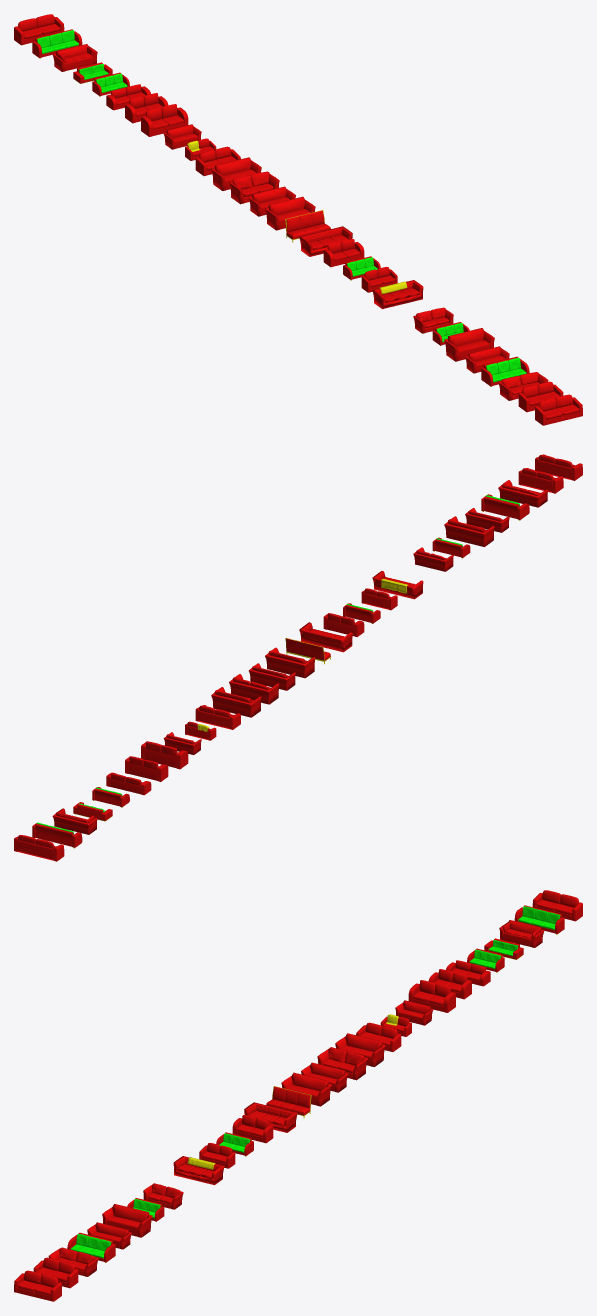
The model's file is sofas_grp.fbx.
3 renders of one model, top to bottom at view 1: azimuth 30°, elevation 25°; view 2: azimuth 150°, elevation 25°; view 3: azimuth 330°, elevation 25°, orthographic.
Visible parts, largest first — view 1: sofa_206, sofa_223, sofa_201, sofa_218, sofa_230, sofa_216, sofa_219, sofa_214, sofa_229, sofa_204, sofa_215, sofa_210 (+15 smaller); view 2: sofa_206, sofa_216, sofa_219, sofa_223, sofa_214, sofa_230, sofa_218, sofa_201, sofa_202, sofa_204, sofa_229, sofa_224 (+11 smaller); view 3: sofa_206, sofa_223, sofa_201, sofa_230, sofa_218, sofa_216, sofa_219, sofa_214, sofa_229, sofa_204, sofa_215, sofa_210 (+15 smaller).
Part boxes in pixels (x1,y1,x2,y2): sofa_206: [444, 328, 494, 361]; sofa_223: [141, 104, 188, 136]; sofa_201: [535, 394, 582, 425]; sofa_218: [229, 171, 279, 204]; sofa_230: [14, 14, 64, 45]; sofa_216: [265, 196, 315, 230]; sofa_219: [211, 157, 261, 190]; sofa_214: [299, 226, 352, 256]; sofa_229: [32, 29, 82, 58]; sofa_204: [481, 356, 529, 386]; sofa_215: [285, 210, 330, 242]; sofa_210: [372, 280, 423, 309]; sofa_206: [444, 516, 494, 546]; sofa_216: [265, 647, 315, 678]; sofa_219: [211, 687, 261, 717]; sofa_223: [141, 741, 188, 769]; sofa_214: [299, 622, 352, 652]; sofa_230: [14, 835, 64, 861]; sofa_218: [229, 674, 279, 704]; sofa_201: [535, 454, 582, 480]; sofa_202: [518, 468, 563, 493]; sofa_204: [481, 494, 529, 520]; sofa_229: [32, 822, 82, 848]; sofa_224: [125, 756, 168, 781]; sofa_206: [102, 1204, 152, 1237]; sofa_223: [408, 980, 455, 1012]; sofa_201: [14, 1270, 61, 1301]; sofa_230: [532, 890, 582, 921]; sofa_218: [317, 1047, 367, 1080]; sofa_216: [281, 1072, 331, 1106]; sofa_219: [335, 1033, 385, 1066]; sofa_214: [244, 1102, 297, 1132]; sofa_229: [514, 905, 564, 934]; sofa_204: [67, 1232, 115, 1262]; sofa_215: [266, 1086, 311, 1118]; sofa_210: [173, 1156, 224, 1185].
Bounding box in the file's own units: 282 × 127 × 5891.
